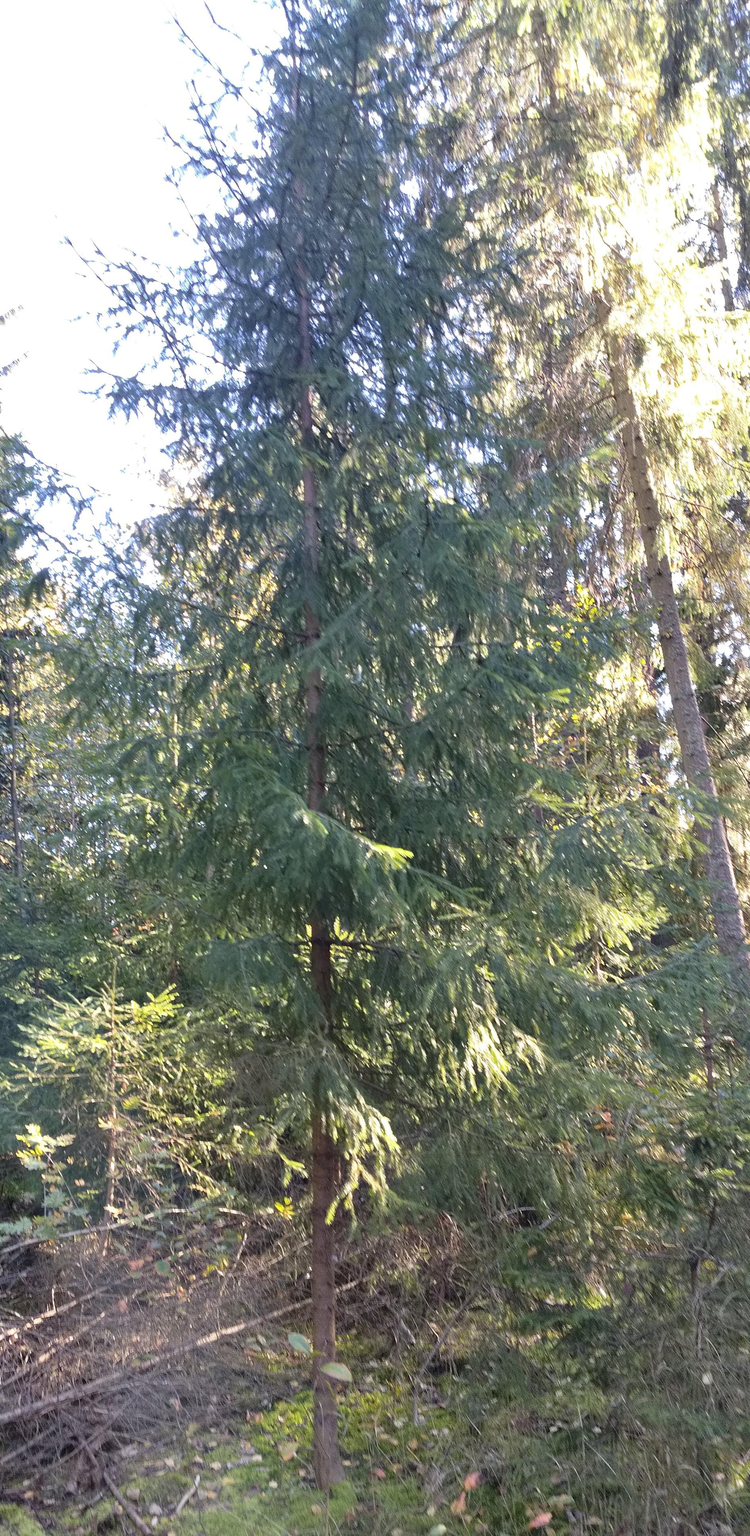Spruce: (5, 2, 746, 1487)
